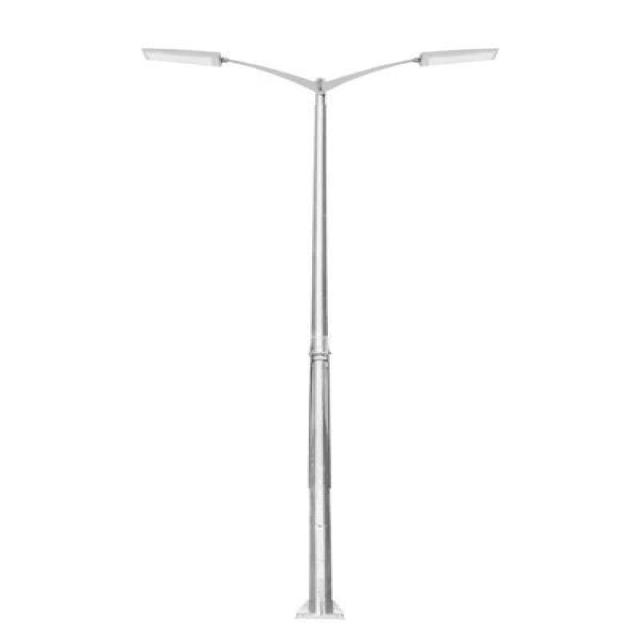Pole: (142, 47, 500, 620)
